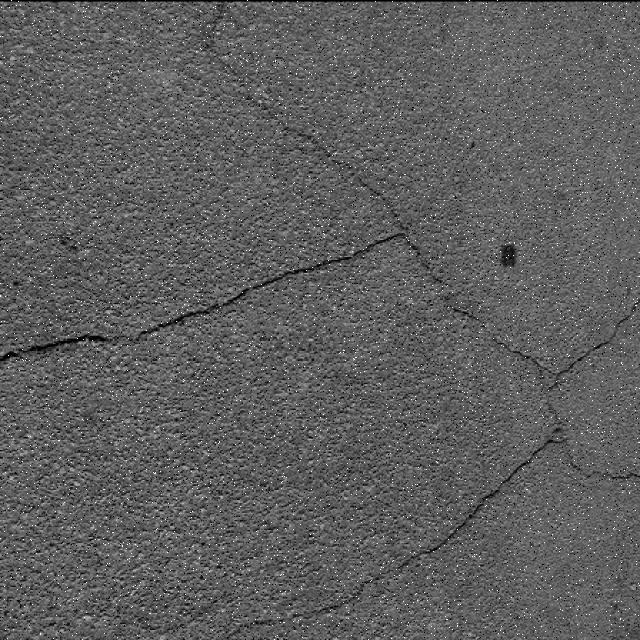Crack: (0, 2, 638, 639)
